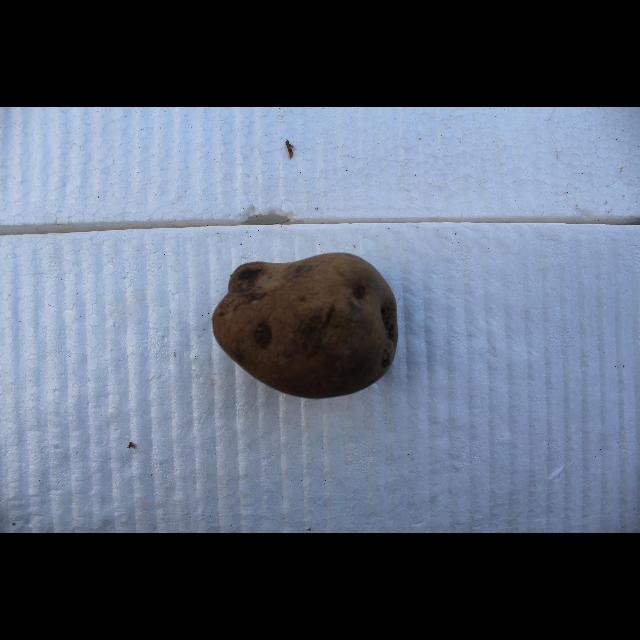Diseased-fungal potato: (206, 252, 404, 406)
